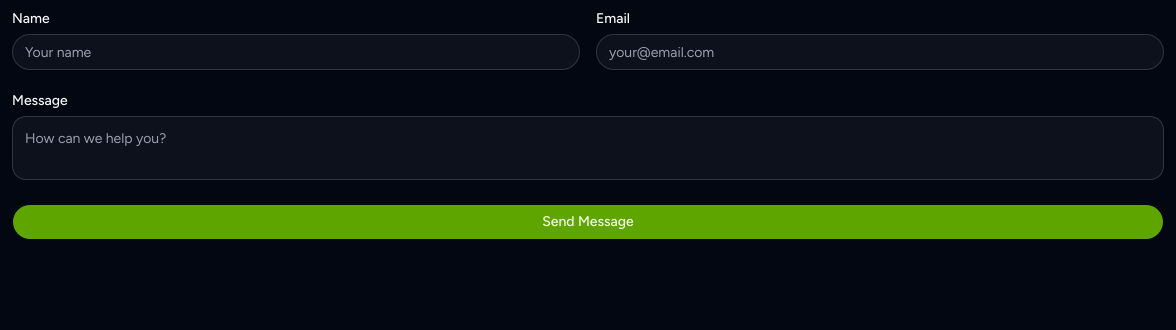
Test: ContactForm › shows error message when API returns 500
Type "John Doe" into the field labelled "Name" at (296, 52), box x1=12 y1=34 x2=580 y2=70
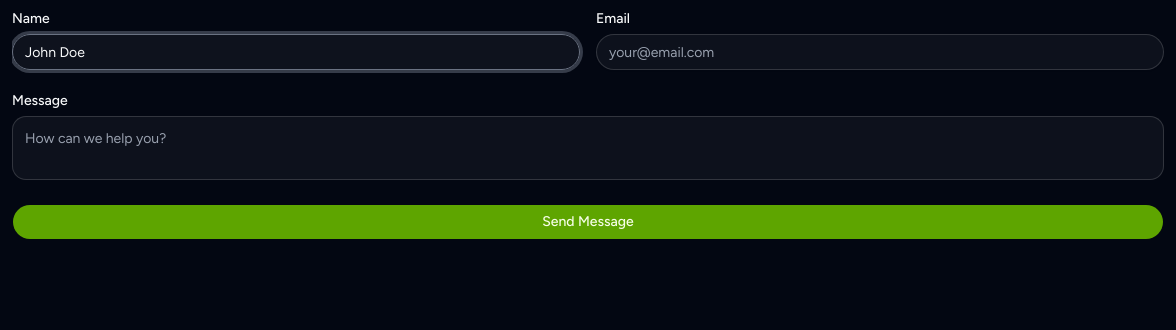
Type "john@example.com" into the field labelled "Email" at (880, 52), box x1=596 y1=34 x2=1164 y2=70
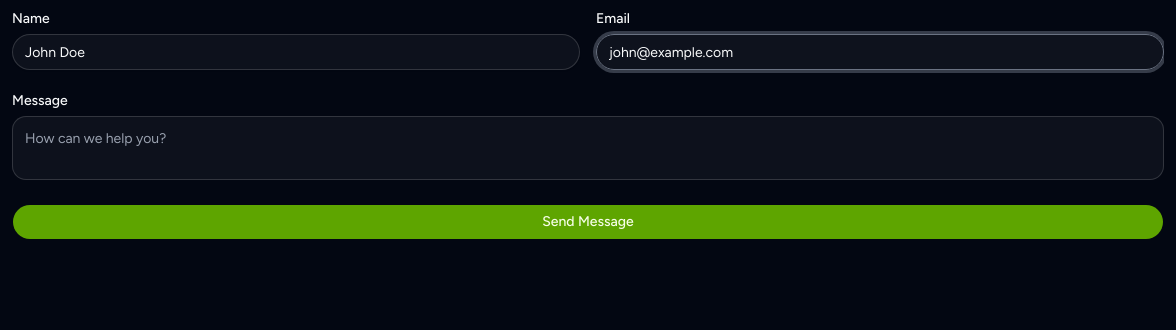
Type "This is a valid message with enough content." into the text box labelled "Message" at (588, 148), box x1=12 y1=116 x2=1164 y2=180
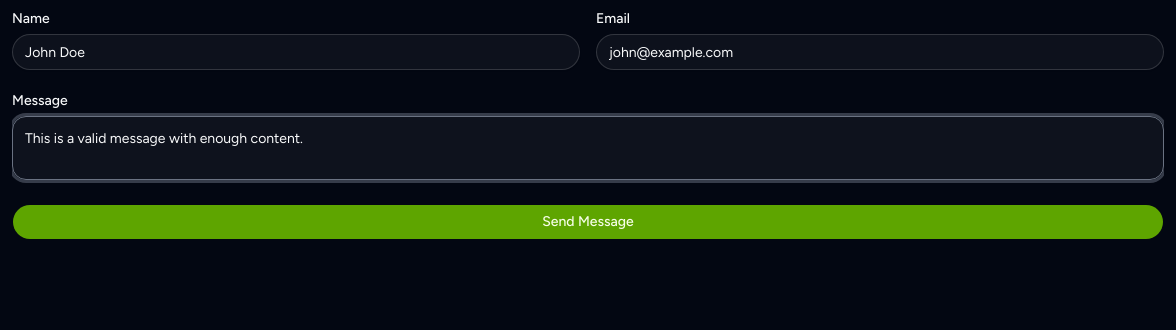
Click the button "Send Message" at (588, 222), box x1=12 y1=204 x2=1164 y2=240
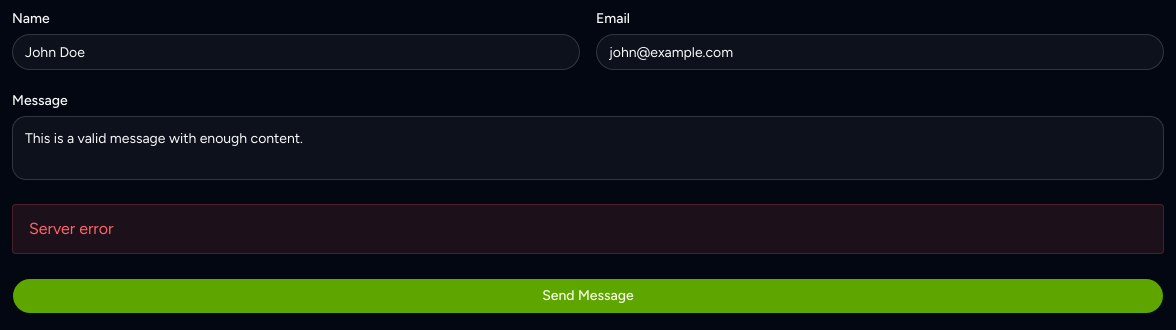
Result: the text "Server error" is shown at x1=12 y1=204 x2=1164 y2=254
